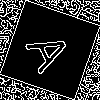A: (25, 25, 82, 76)
